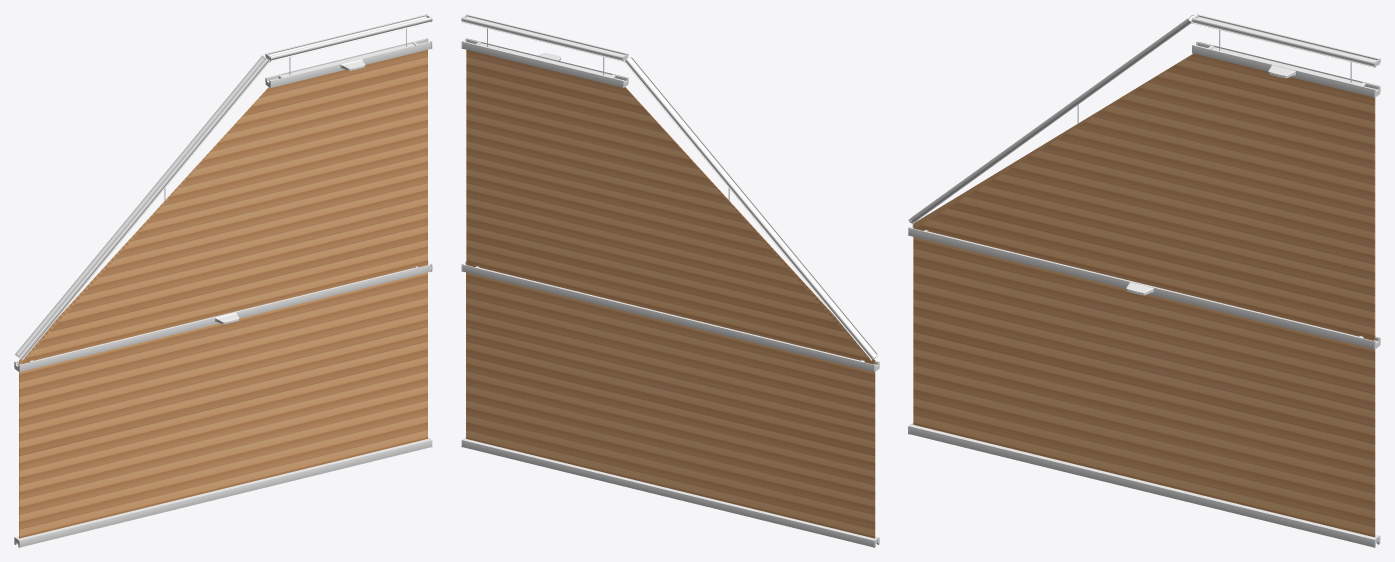
3 views of the same model, side by side, from view 1: azimuth 30°, elevation 25°; view 2: azimuth 150°, elevation 25°; view 3: azimuth 330°, elevation 25° (orthographic). The views are drawn at different scales.
Visible parts, largest first — view 1: Plane.003, Plane.004, Cube.012, Cube.006, Cube.001, Cube.017, Cube.005; view 2: Plane.003, Plane.004, Cube.012, Cube.006, Cube.001, Cube.017, Cube.005; view 3: Plane.003, Plane.004, Cube.012, Cube.001, Cube.006, Cube.017, Cube.005.
Part boxes in pixels (x1,y1,x2,y2): Plane.003: [19, 272, 427, 538]; Plane.004: [19, 49, 427, 364]; Cube.012: [16, 438, 430, 547]; Cube.006: [16, 57, 268, 359]; Cube.001: [16, 264, 431, 371]; Cube.017: [267, 38, 430, 87]; Cube.005: [267, 14, 430, 61]; Plane.003: [466, 272, 875, 538]; Plane.004: [466, 49, 875, 364]; Cube.012: [463, 438, 877, 547]; Cube.006: [625, 57, 877, 359]; Cube.001: [463, 264, 877, 371]; Cube.017: [463, 38, 626, 87]; Cube.005: [462, 14, 626, 61]; Plane.003: [913, 237, 1375, 537]; Plane.004: [913, 53, 1375, 340]; Cube.012: [909, 424, 1378, 546]; Cube.001: [909, 228, 1377, 348]; Cube.006: [910, 16, 1191, 223]; Cube.017: [1193, 42, 1378, 96]; Cube.005: [1193, 14, 1378, 67].
Size of the model in its own units: 0.9999 by 0.9937 by 0.0476.
Materials: 6 (2 with a texture image).
